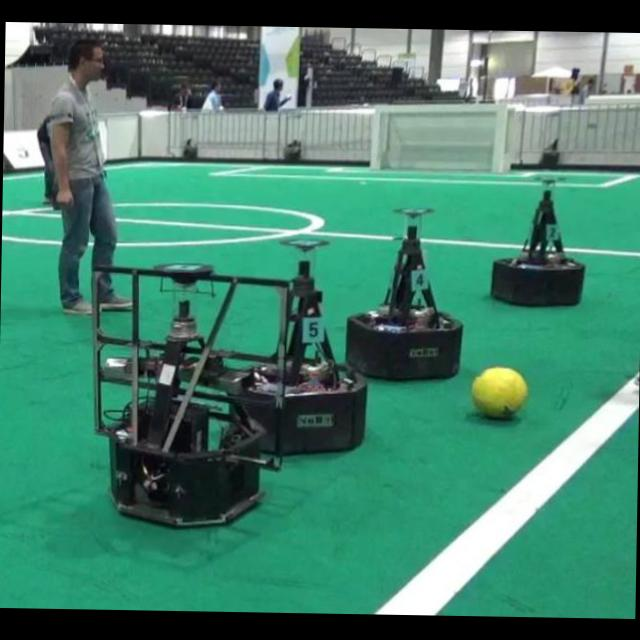ball: (471, 366, 528, 418)
goal: (490, 104, 506, 173), (369, 109, 380, 169)
robot: (92, 263, 289, 527), (279, 240, 365, 455), (345, 226, 461, 378), (491, 190, 583, 305)
